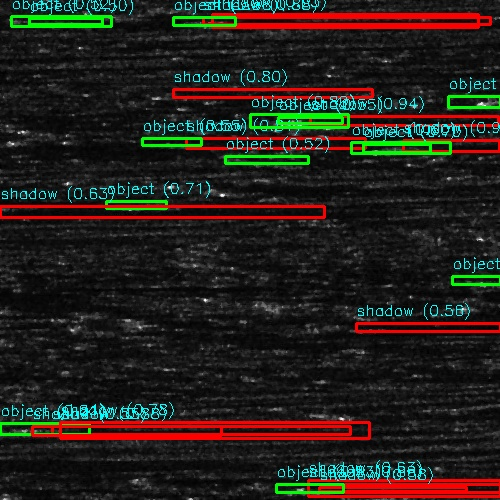rock: (131, 128, 214, 155), (287, 102, 318, 137), (375, 145, 468, 152), (440, 97, 500, 106), (173, 90, 204, 101), (11, 427, 52, 434), (0, 144, 30, 153), (287, 486, 328, 489), (232, 184, 243, 195), (476, 279, 500, 284), (313, 410, 334, 415)
shadow: (303, 102, 500, 137), (173, 128, 323, 155), (0, 204, 301, 217), (238, 184, 467, 195), (32, 427, 342, 434), (0, 457, 173, 466), (189, 90, 263, 101), (0, 208, 235, 211), (0, 191, 88, 198), (308, 486, 500, 489), (422, 145, 500, 152), (0, 144, 49, 153), (324, 410, 407, 415), (0, 196, 48, 203)
